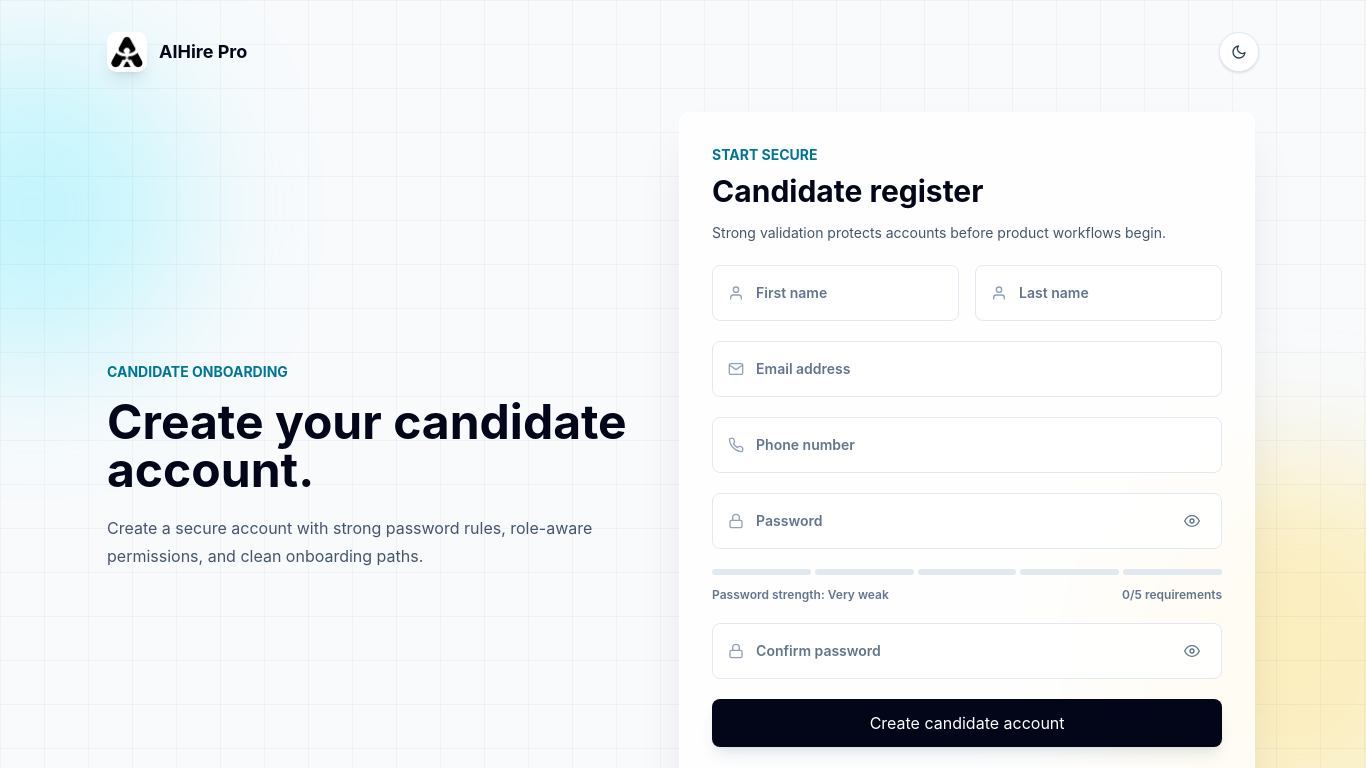
Scenario: RegisterPage › shows inline validation errors for empty registration form
This screenshot has width=1366, height=768.
Step 1. Click the button "Create candidate account" → (967, 723), box left=712, top=699, right=1222, bottom=747
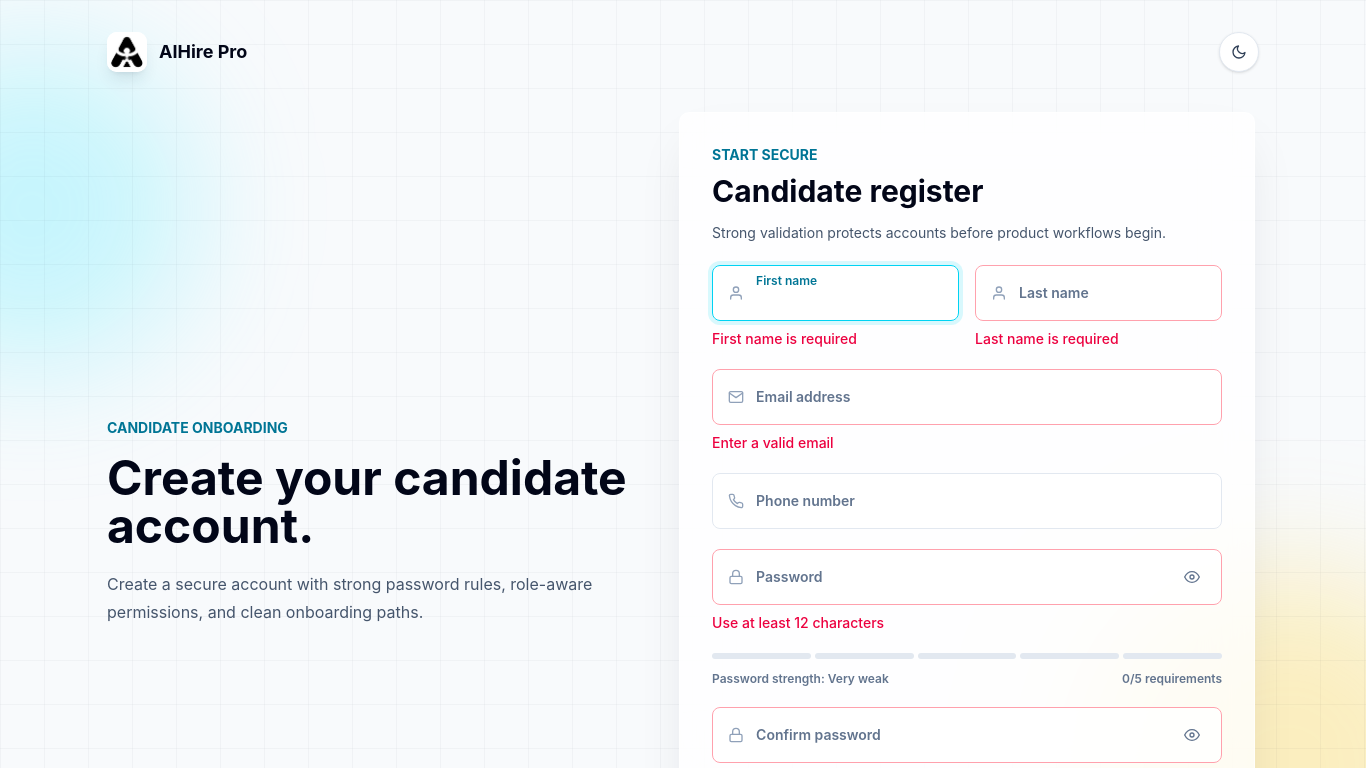
Now the text "First name is required" is shown, box left=712, top=330, right=857, bottom=347
Now the text "Last name is required" is shown, box left=975, top=330, right=1119, bottom=347
Now the text "Enter a valid email" is shown, box left=712, top=434, right=834, bottom=451
